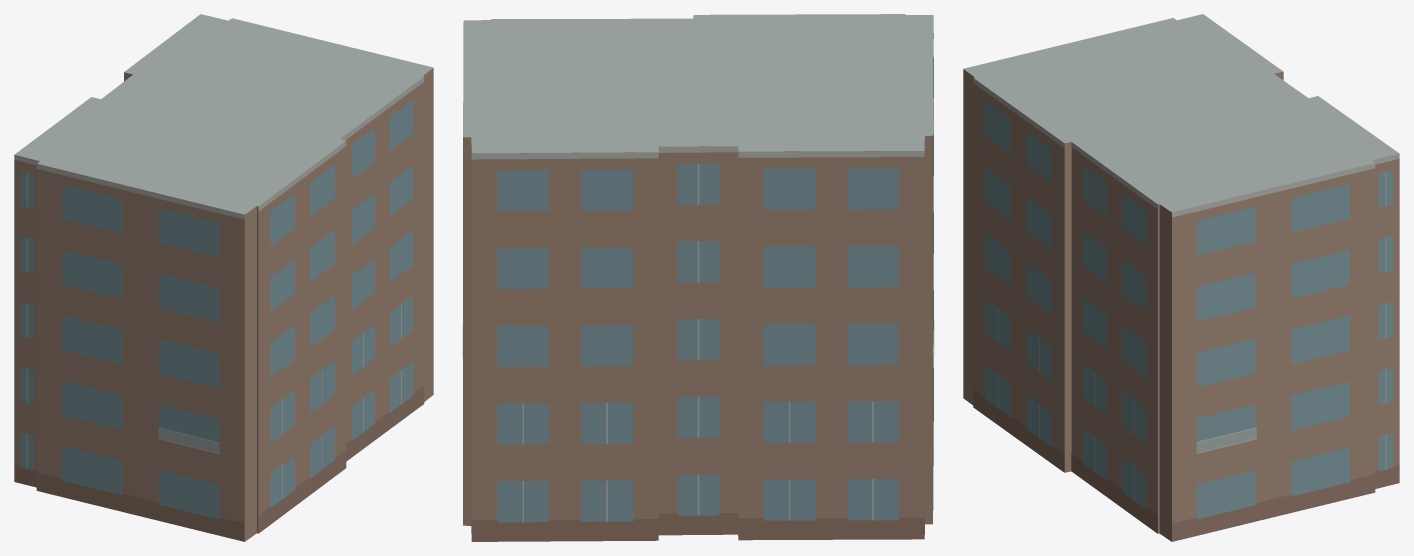
File: survey-upis-32671812.glb
3 renders of one model, left to right at view 1: azimuth 30°, elevation 25°; view 2: azimuth 150°, elevation 25°; view 3: azimuth 270°, elevation 25°, orthographic. The views are drawn at different scales.
Visible parts, largest first — view 1: survey-upis-32671812.tmp; view 2: survey-upis-32671812.tmp; view 3: survey-upis-32671812.tmp.
Boxes of the visible parts, x1,y1,x2,y2 form: survey-upis-32671812.tmp: (14, 14, 433, 541); survey-upis-32671812.tmp: (462, 14, 934, 541); survey-upis-32671812.tmp: (963, 14, 1399, 541).
Size of the model in its own units: 20.1 by 15.55 by 18.67.
